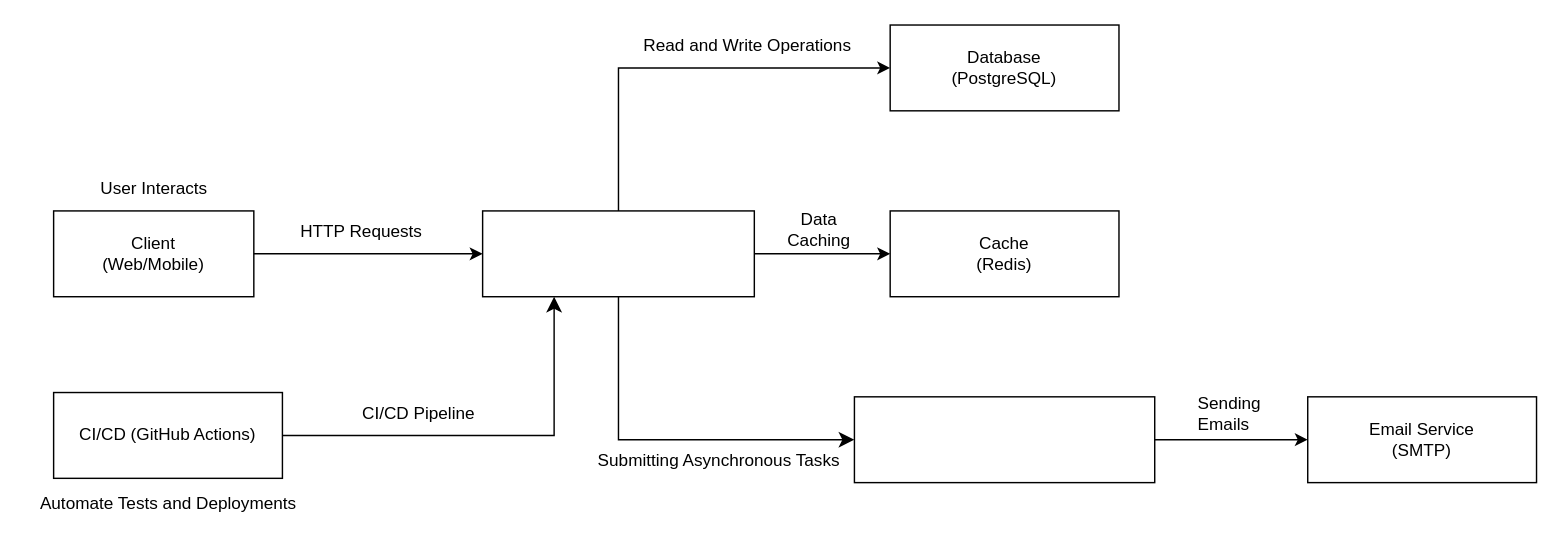
This 1562x551 diagram has some shape labels left out. The shapes that lost their labels are listed below. From the top down, each one's centre as x and y in pixels, then its label:
point (617, 253): API Server (Django REST Framework)
point (1004, 439): Task Queue (Celery + Redis as broker)
